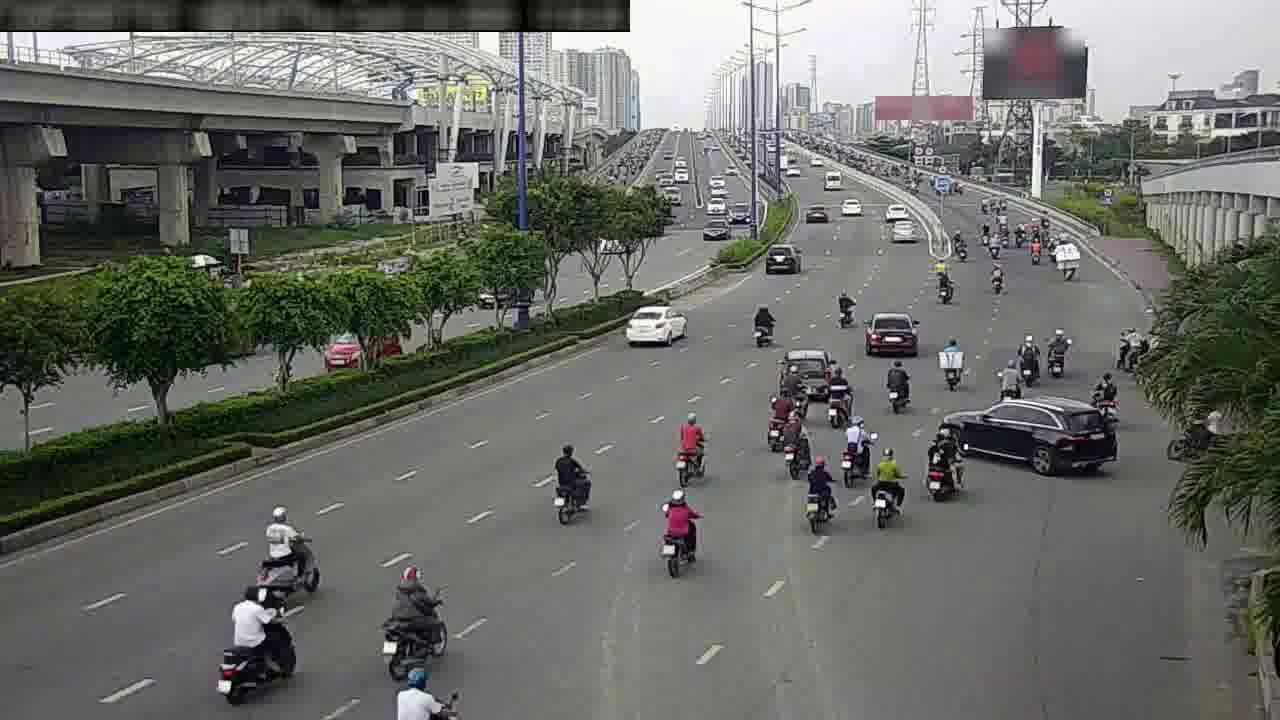container: (955, 388, 1113, 481), (619, 297, 690, 350), (860, 305, 924, 360), (773, 339, 837, 390), (759, 236, 804, 275), (884, 213, 924, 249)
motorbike: (213, 595, 296, 694), (375, 571, 450, 676), (250, 509, 318, 598), (542, 441, 603, 522), (650, 497, 701, 569), (791, 456, 839, 530), (860, 456, 908, 528), (918, 432, 967, 498), (669, 411, 713, 478), (835, 422, 872, 483), (775, 415, 813, 474), (875, 356, 915, 411), (815, 376, 855, 429), (992, 350, 1033, 399), (934, 336, 971, 390), (1036, 326, 1073, 378), (1113, 319, 1152, 368), (757, 398, 792, 450), (1007, 331, 1044, 380), (1087, 360, 1121, 408), (746, 301, 779, 346), (829, 286, 859, 326), (931, 267, 956, 303), (1054, 244, 1078, 281), (983, 260, 1006, 293), (949, 230, 971, 261), (1024, 238, 1042, 268)
